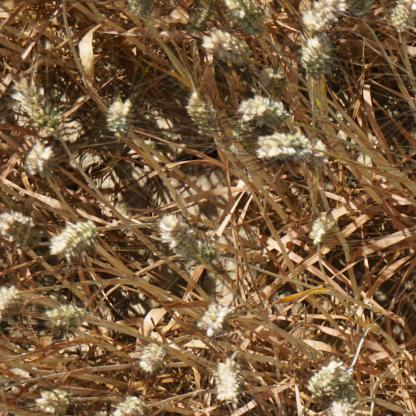whd: (17, 84, 57, 134), (198, 29, 249, 66), (50, 221, 95, 262), (255, 132, 309, 162), (302, 0, 350, 31), (159, 216, 198, 254), (236, 96, 289, 122), (186, 91, 216, 135), (211, 358, 241, 401), (225, 0, 264, 33), (231, 126, 267, 160), (38, 304, 86, 329), (104, 96, 132, 134), (197, 304, 230, 336), (310, 362, 343, 393), (298, 36, 322, 76), (25, 142, 51, 178), (0, 211, 36, 236), (312, 32, 333, 74), (37, 388, 70, 414), (181, 242, 219, 264), (390, 0, 416, 32), (8, 226, 42, 250), (260, 67, 287, 96), (106, 396, 144, 416), (137, 344, 164, 370), (184, 5, 208, 33), (310, 215, 333, 244), (308, 140, 330, 165), (0, 287, 20, 313), (333, 369, 352, 396), (127, 0, 152, 18), (327, 398, 351, 416), (366, 132, 378, 148)
